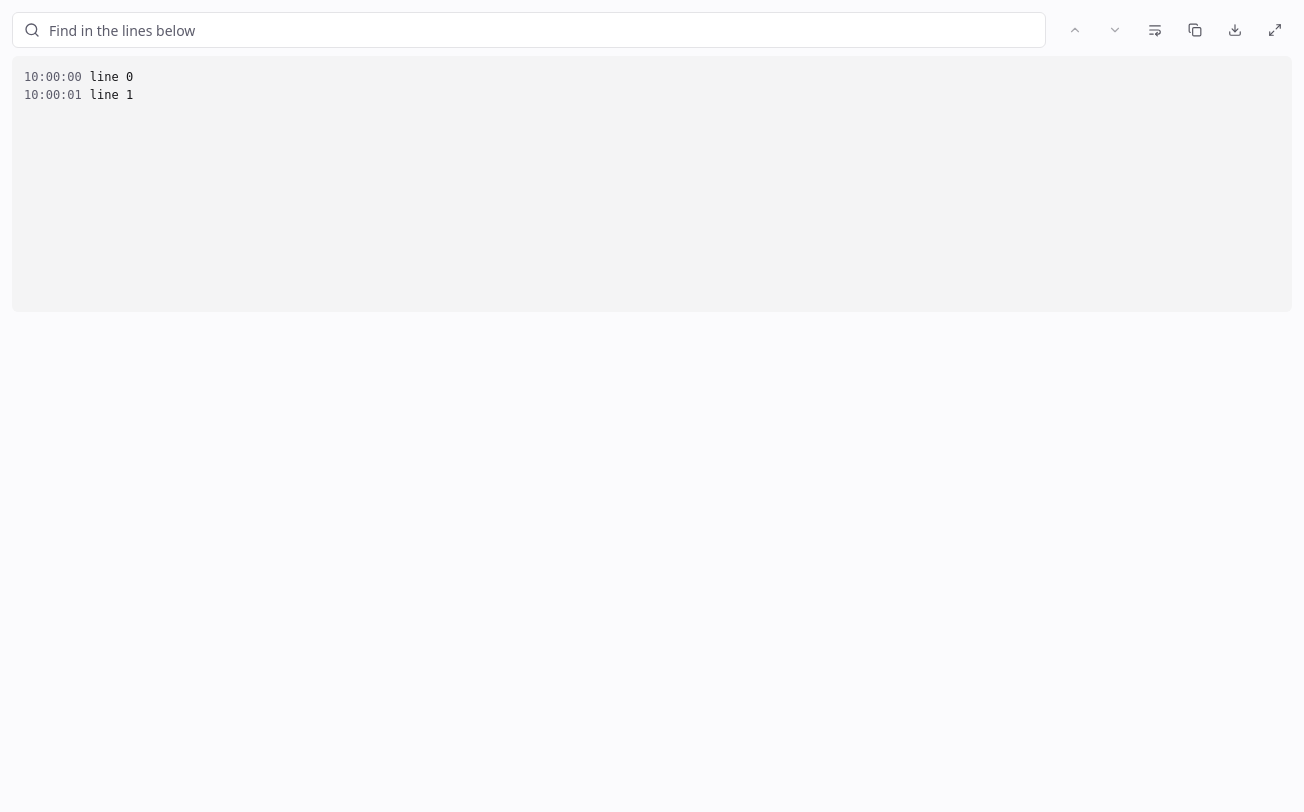
Test: LogPane copy and download › copies the buffer with its full timestamps and says how much
The width and height of the screenshot is (1304, 812).
Click the button named "Copy these lines". click: {"x": 1195, "y": 30}
box: 1178,14 -> 1212,46
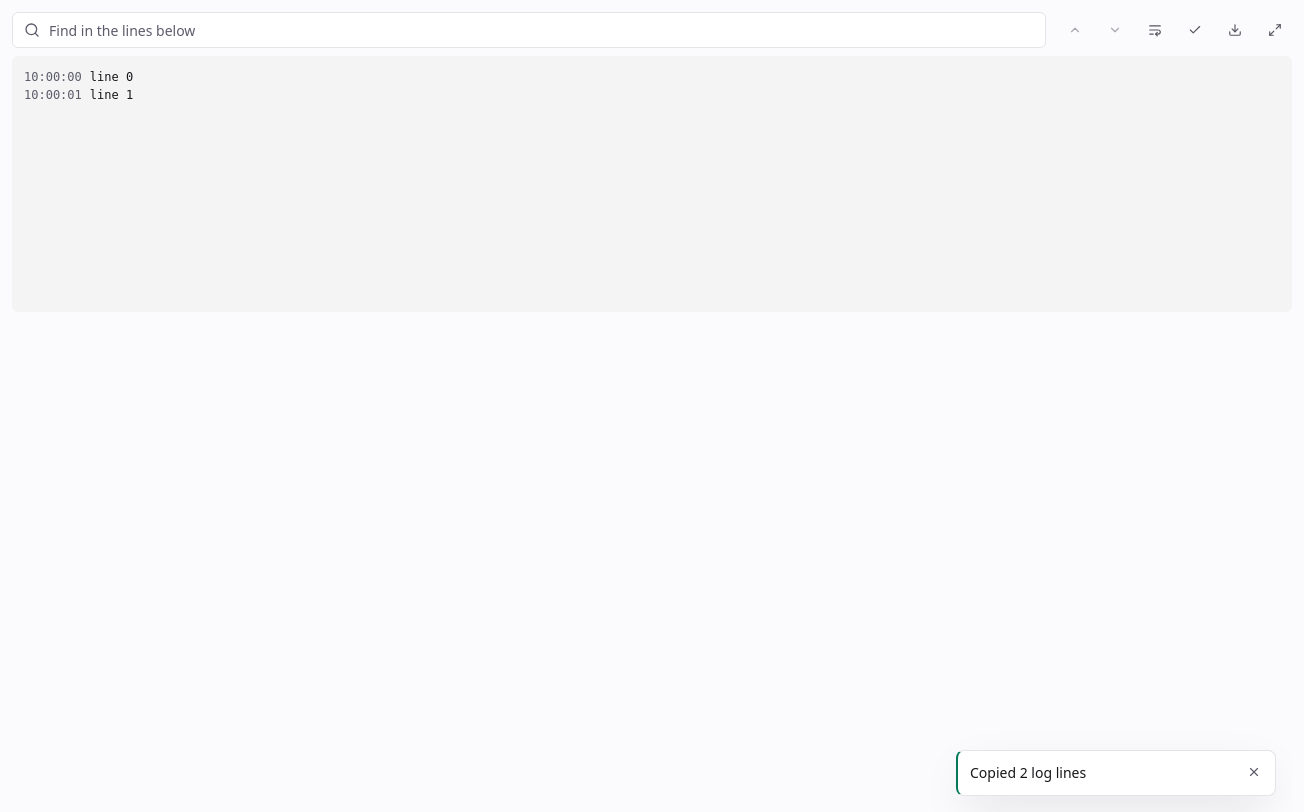
Check: the text "Copied 2 log lines" is shown, box 970,763 -> 1086,782
